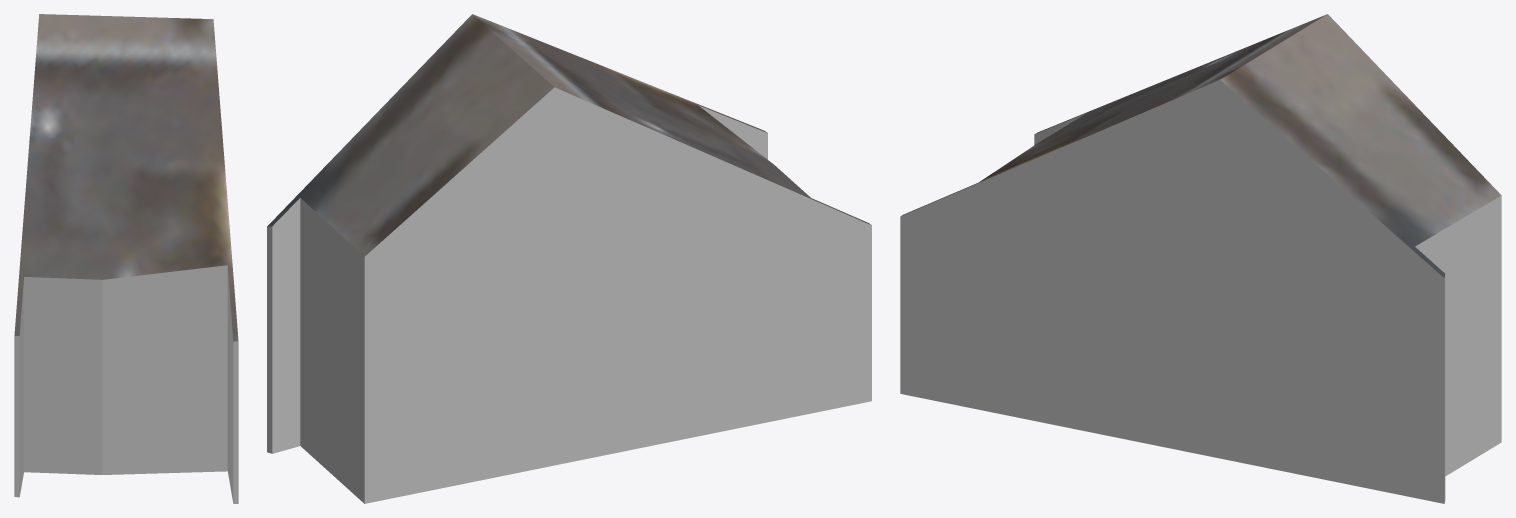
Rendered from DEBW_0010007TvlD.gltf.
3 renders of one model, left to right at view 1: azimuth 30°, elevation 25°; view 2: azimuth 150°, elevation 25°; view 3: azimuth 270°, elevation 25°, orthographic. The views are drawn at different scales.
Parts seen in each view (by area): view 1: Z_UP; view 2: Z_UP; view 3: Z_UP.
Part boxes in pixels (<box>): Z_UP: <box>14,14,238,503</box>; Z_UP: <box>267,14,871,503</box>; Z_UP: <box>900,14,1501,503</box>.
Size of the model in its own units: 12.73 by 11.48 by 16.52.
2 materials, 1 textured.
